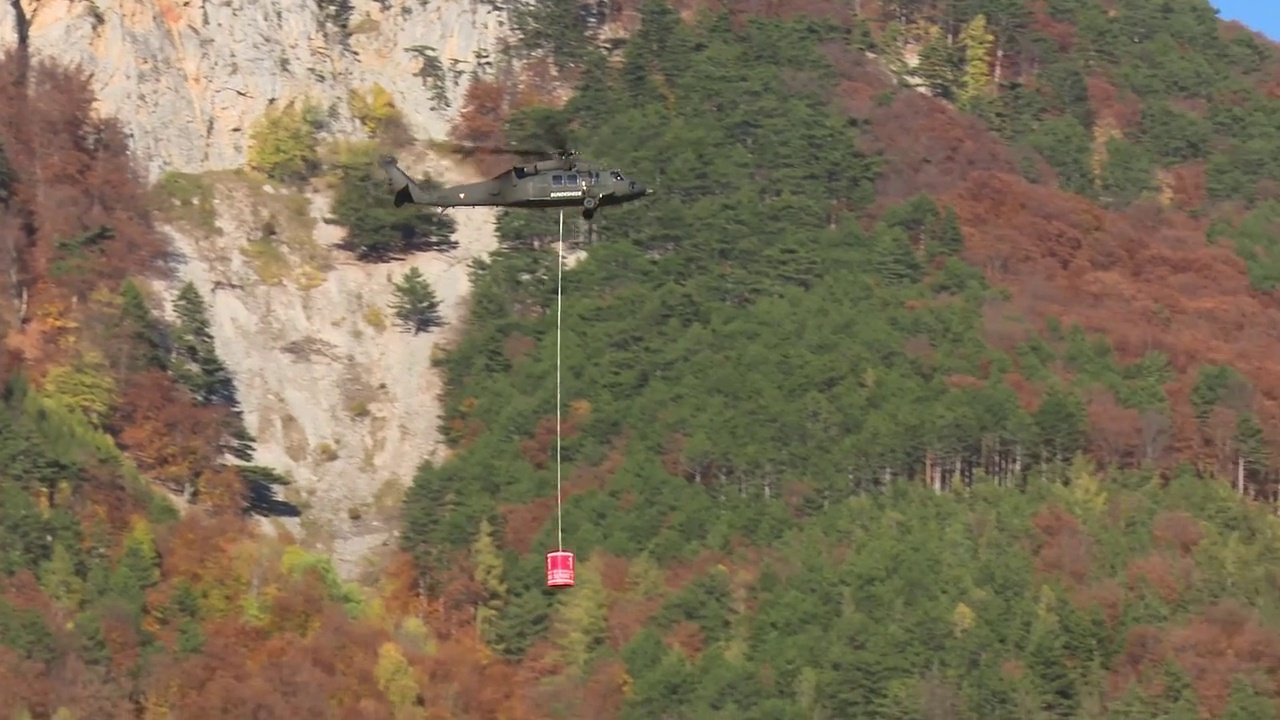heli: (389, 141, 654, 220)
